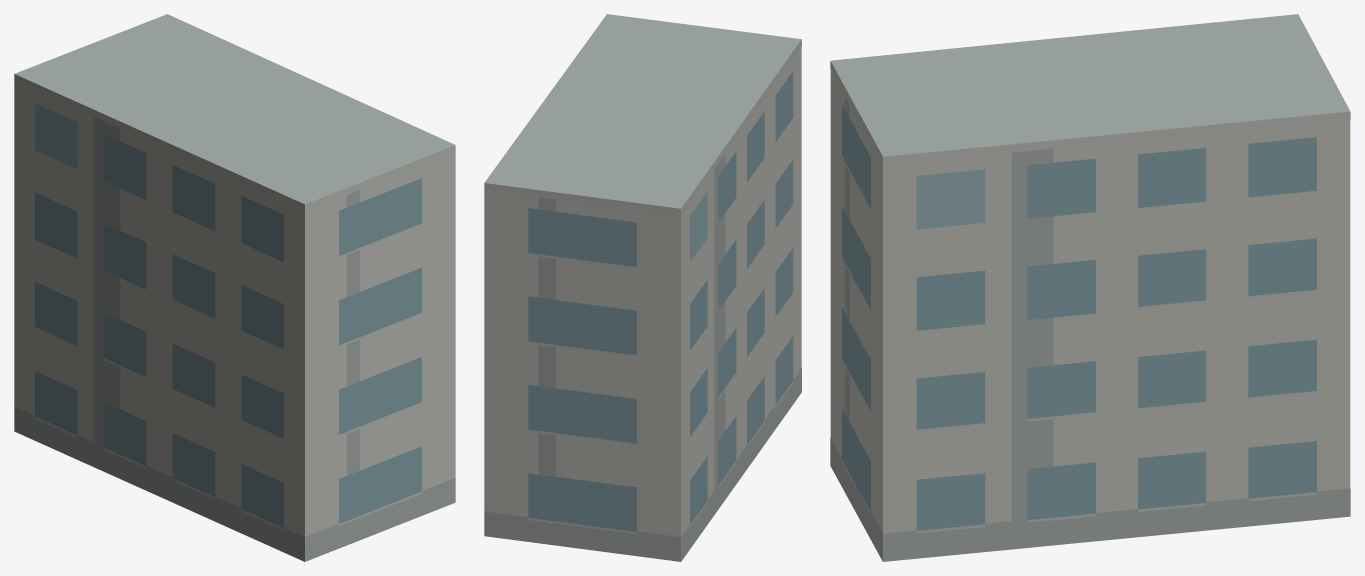
Rendered from residential-235761f4-53c1-4e23-896a-99686a75d965.glb.
3 views of the same model, side by side, from view 1: azimuth 30°, elevation 25°; view 2: azimuth 150°, elevation 25°; view 3: azimuth 270°, elevation 25° (orthographic). The views are drawn at different scales.
Parts seen in each view (by area): view 1: residential-235761f4-53c1-4e23-896a-99686a75d965.tmp; view 2: residential-235761f4-53c1-4e23-896a-99686a75d965.tmp; view 3: residential-235761f4-53c1-4e23-896a-99686a75d965.tmp.
Part boxes in pixels (x1,y1,x2,y2): residential-235761f4-53c1-4e23-896a-99686a75d965.tmp: (14, 14, 455, 561); residential-235761f4-53c1-4e23-896a-99686a75d965.tmp: (484, 14, 801, 561); residential-235761f4-53c1-4e23-896a-99686a75d965.tmp: (830, 14, 1350, 561).
Bounding box in the file's own units: 9.23 × 12.2 × 14.2.
